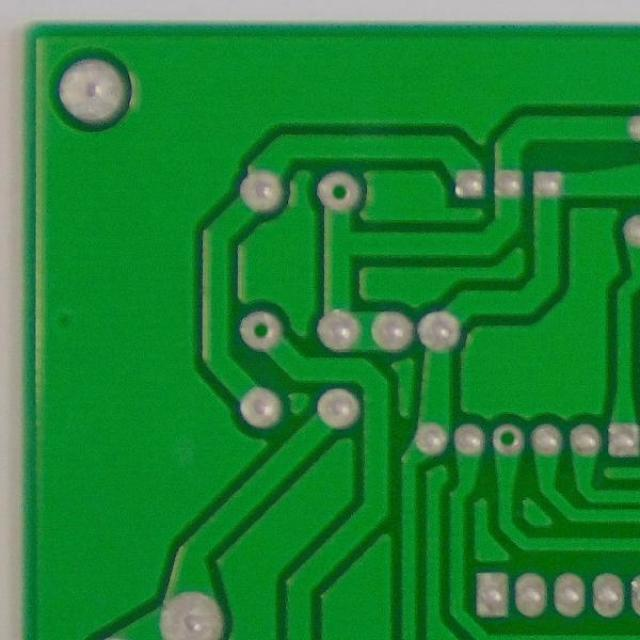Missing_Hole: (312, 168, 366, 214), (236, 309, 288, 354), (489, 424, 528, 458)
